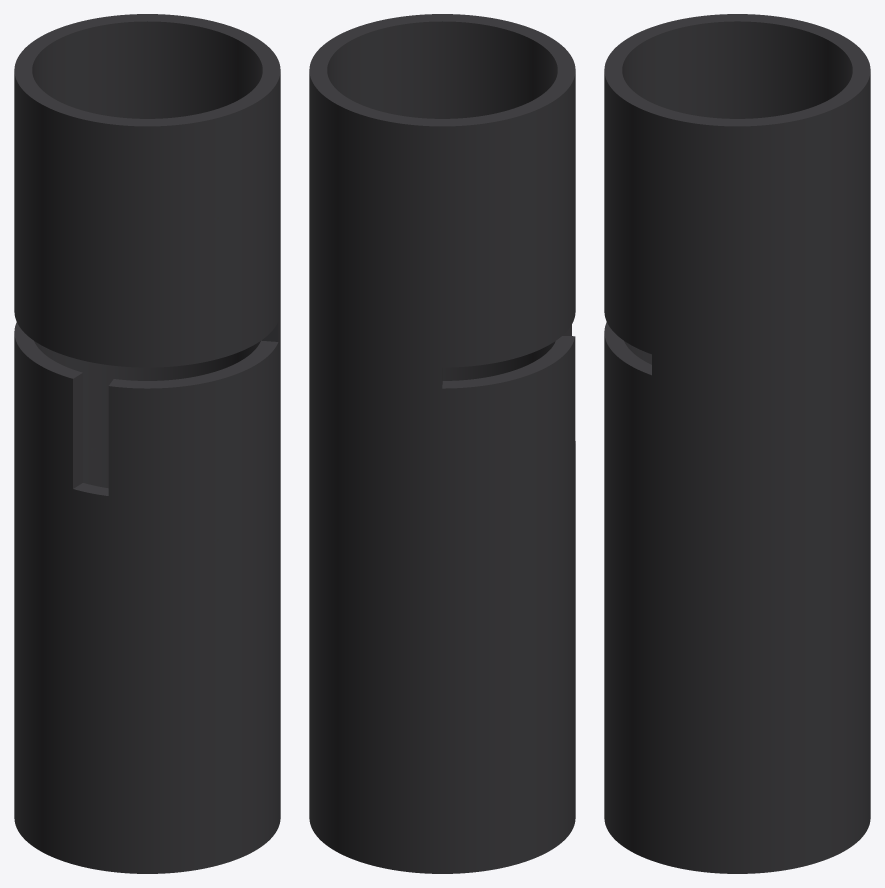
The model's file is queen-black-hd.glb.
3 renders of one model, left to right at view 1: azimuth 30°, elevation 25°; view 2: azimuth 150°, elevation 25°; view 3: azimuth 270°, elevation 25°, orthographic.
Parts seen in each view (by area): view 1: 03_dama_cerna; view 2: 03_dama_cerna; view 3: 03_dama_cerna.
Part boxes in pixels (<box>): 03_dama_cerna: <box>14,14,280,873</box>; 03_dama_cerna: <box>309,14,575,873</box>; 03_dama_cerna: <box>604,14,870,873</box>.
Bounding box in the file's own units: 0.4677 × 1.45 × 0.4677.
1 material, 1 textured.
